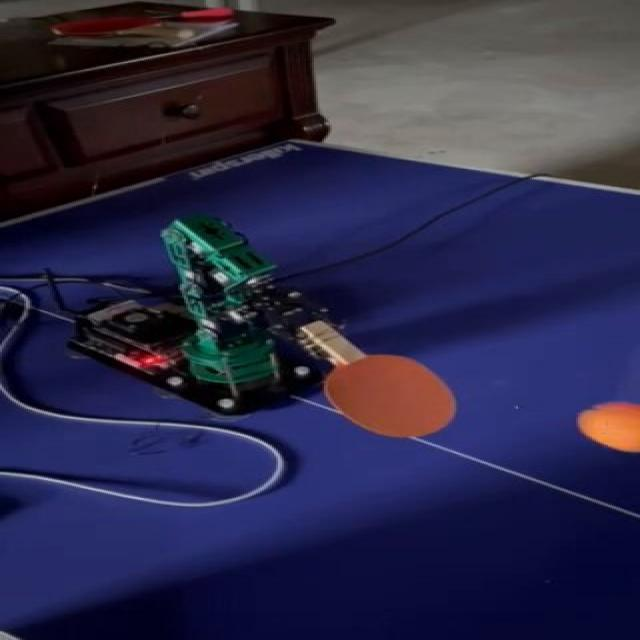ping-pong-ball: (564, 396, 638, 449)
